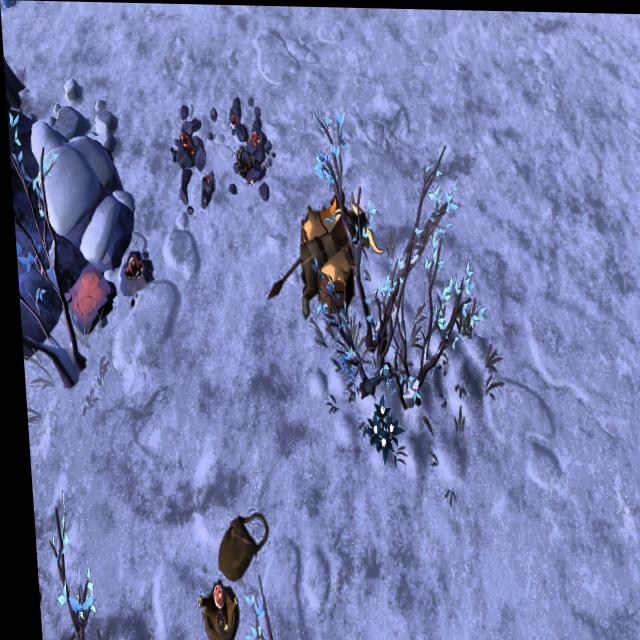fiber_t4: (357, 393, 398, 457)
